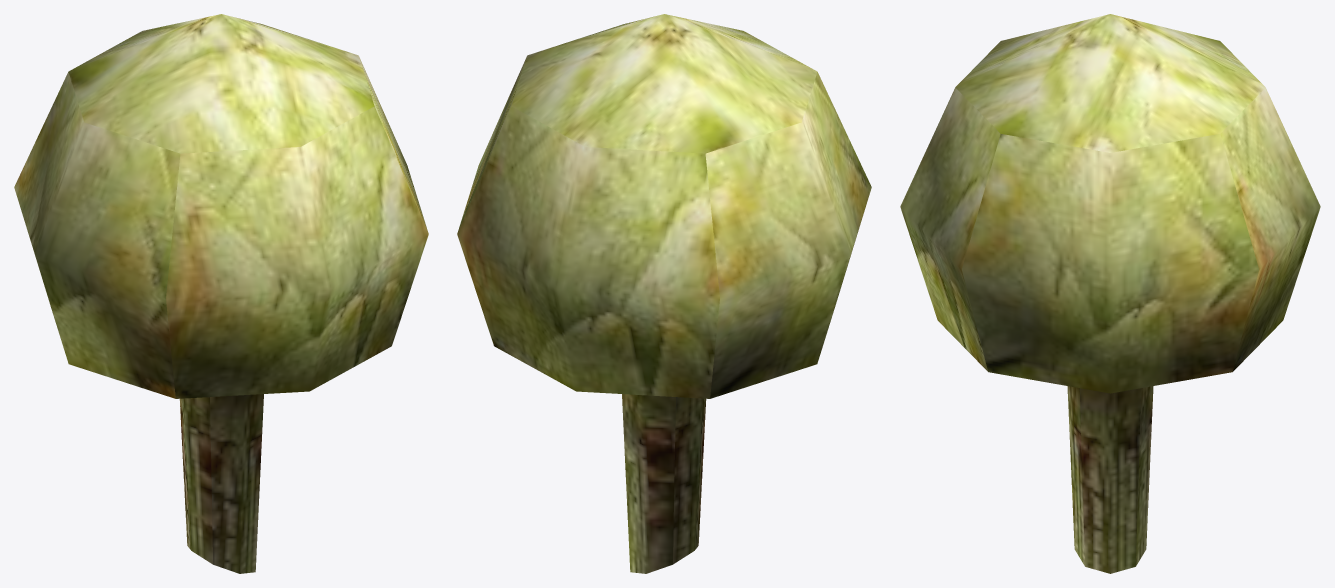
Rendered from Artichoke.glb.
3 views of the same model, side by side, from view 1: azimuth 30°, elevation 25°; view 2: azimuth 150°, elevation 25°; view 3: azimuth 270°, elevation 25° (orthographic). The views are drawn at different scales.
Parts seen in each view (by area): view 1: Artichoke; view 2: Artichoke; view 3: Artichoke.
Part boxes in pixels (box(x1,y1,x2,y2)): Artichoke: box(14, 14, 428, 573); Artichoke: box(457, 14, 871, 573); Artichoke: box(900, 14, 1320, 573).
Bounding box in the file's own units: 0.358 × 0.5126 × 0.358.
Materials: 1 (1 with a texture image).
